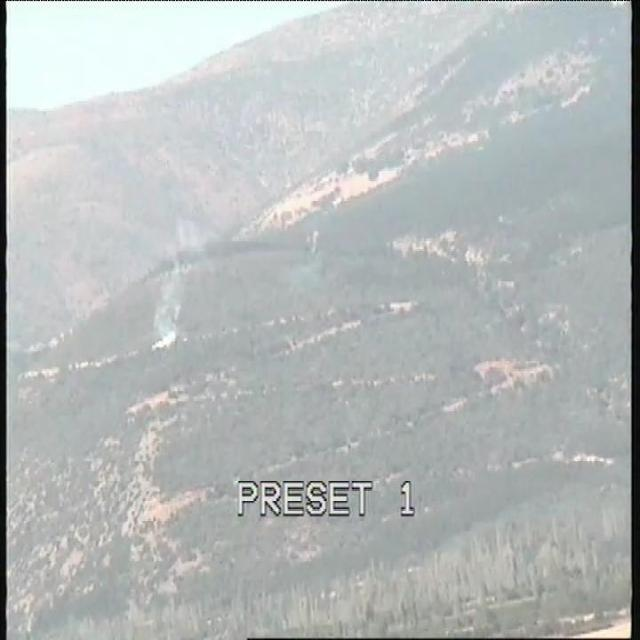Smoke: (151, 274, 185, 344)
